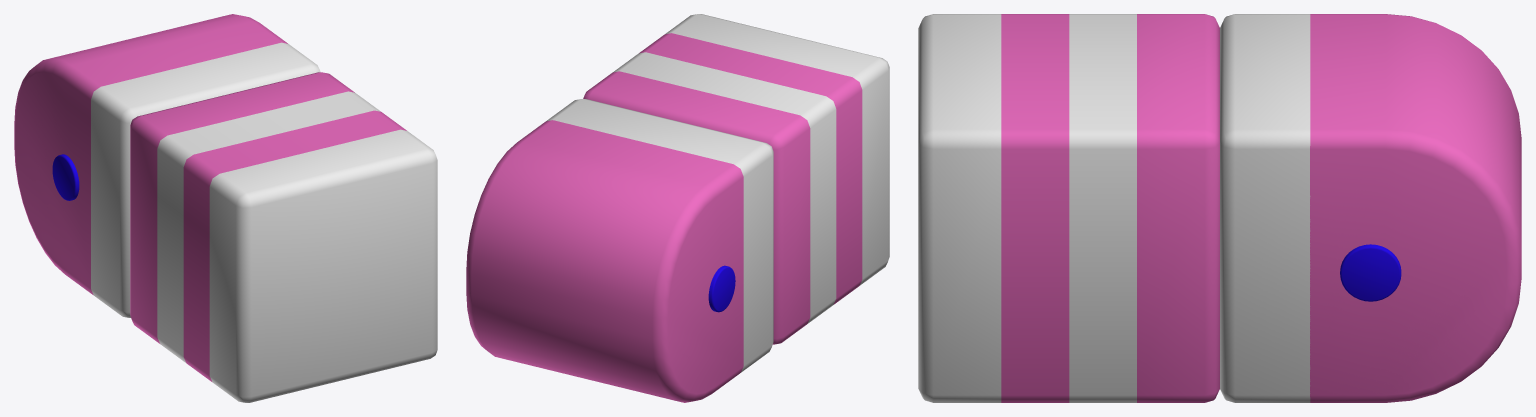
File: GateFinal.fbx
The picture shows the model from 3 angles, left to right: view 1: azimuth 30°, elevation 25°; view 2: azimuth 150°, elevation 25°; view 3: azimuth 270°, elevation 25°; orthographic projection. The views are drawn at different scales.
Visible parts, largest first — view 1: Cube.001, Cube; view 2: Cube, Cube.001; view 3: Cube.001, Cube.
Part boxes in pixels (x1,y1,x2,y2): Cube.001: (130,72,437,402); Cube: (14,14,320,317); Cube: (466,99,773,402); Cube.001: (583,14,889,344); Cube.001: (918,14,1219,402); Cube: (1220,14,1521,402).
Bounding box in the file's own units: 208 × 200 × 400.
